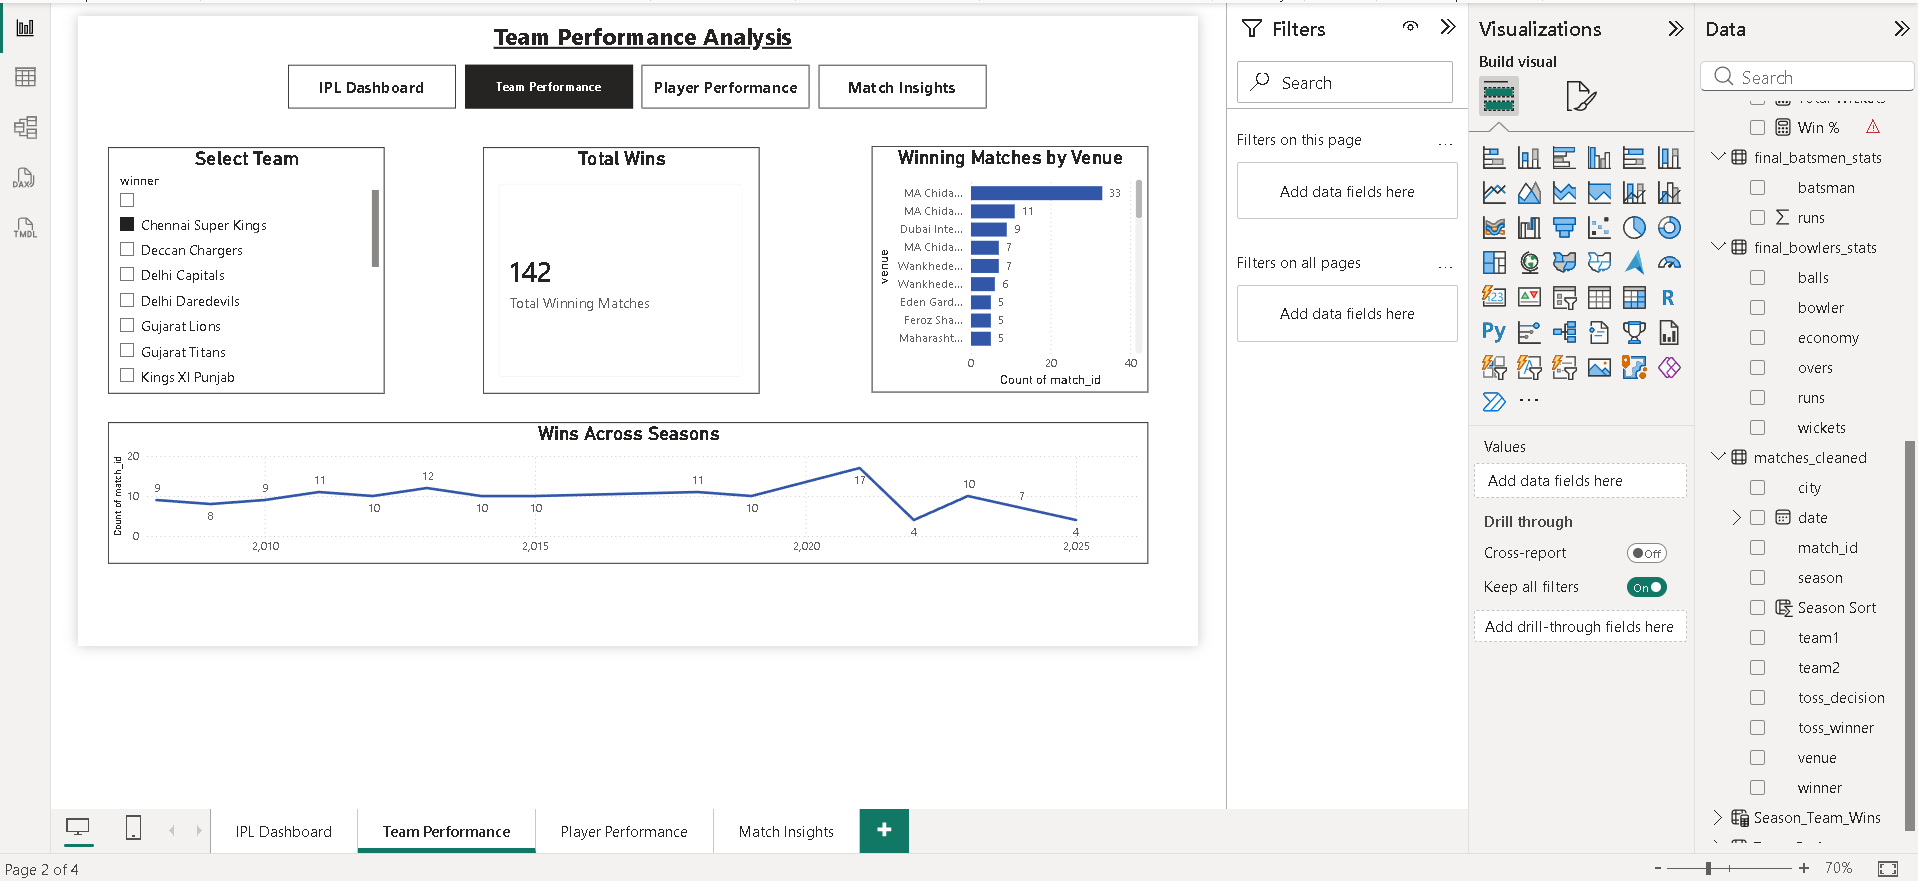

This screenshot's page, from the dashboard's own definition file:
{"tool":"powerbi","page":{"name":"Team Performance","canvas":[1280,720],"ordinal":1},"visuals":[{"type":"lineChart","title":"Wins Across Seasons","fields":{"Category":["matches_cleaned.Season Sort"],"Y":["CountNonNull(matches_cleaned.match_id)"]},"box":[34.3,464.3,1188.6,161.4],"z":0},{"type":"clusteredBarChart","title":"Winning Matches by Venue","fields":{"Category":["matches_cleaned.venue"],"Y":["CountNonNull(matches_cleaned.match_id)"]},"box":[907.1,148.6,315.7,281.4],"z":1000},{"type":"textbox","box":[9.4,0,1270.9,68.6],"z":2000},{"type":"pageNavigator","box":[239.8,55.5,799.3,50.1],"z":3000},{"type":"slicer","title":"Select Team","fields":{"Values":["matches_cleaned.winner"]},"box":[34.3,150,315.7,281.4],"z":4000},{"type":"cardVisual","title":"Total Wins","fields":{"Data":["Season_Team_Wins.Total Winning Matches"]},"box":[462.9,149.3,315.7,281.4],"z":5000}]}

Visuals, with their boxes on the page's 1280x720 design canvas (x1, y1, x2, y2). These are canvas units, not pixel positions in the 1918x881 screenshot, which may show the page scaled, cropped or inside an application window:
"Wins Across Seasons" lineChart: [34, 464, 1223, 626]
"Winning Matches by Venue" clusteredBarChart: [907, 149, 1223, 430]
textbox: [9, 0, 1280, 69]
pageNavigator: [240, 56, 1039, 106]
"Select Team" slicer: [34, 150, 350, 431]
"Total Wins" cardVisual: [463, 149, 779, 431]
